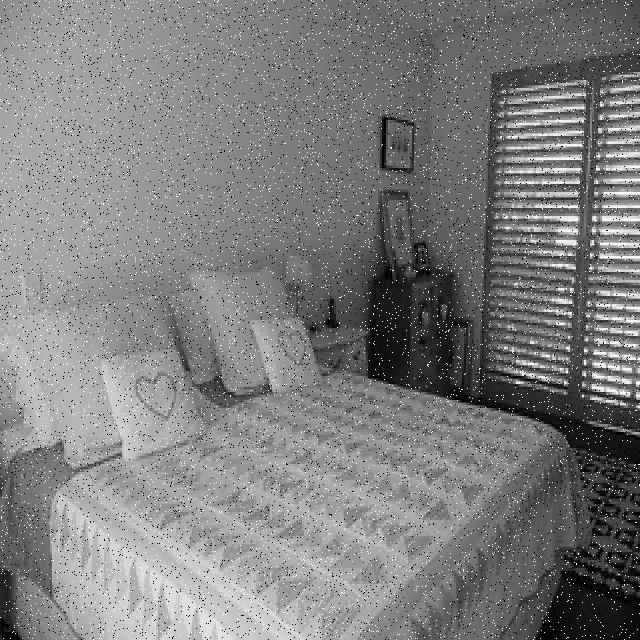bed: (2, 285, 562, 640)
